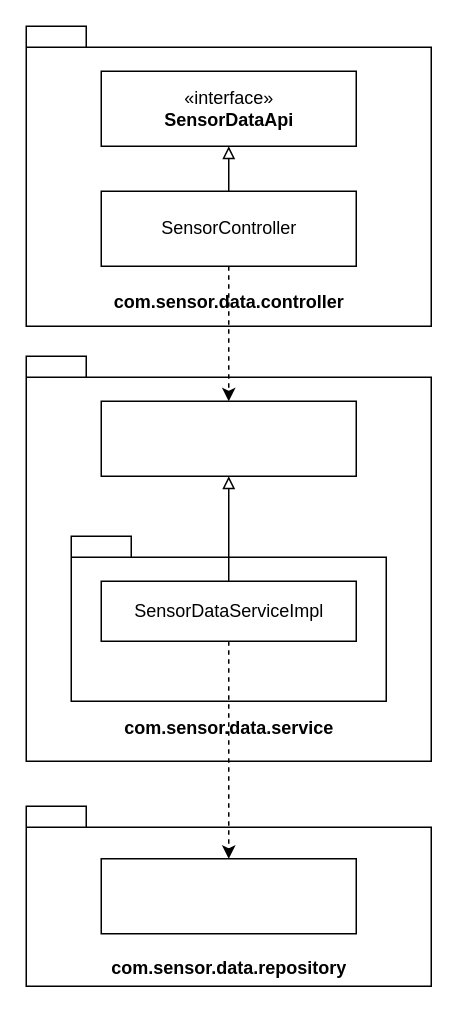
Some shapes in this 458 by 1013 pixel diagram are drawn without their labels. The box of each missing label's shape, as (x1, y1, x2, y2) in pixels:
com.sensor.data.service.impl: (70, 535, 386, 701)
«interface» SensorDataRepository: (100, 857, 356, 934)
«interface» SensorDataService: (100, 400, 356, 476)
